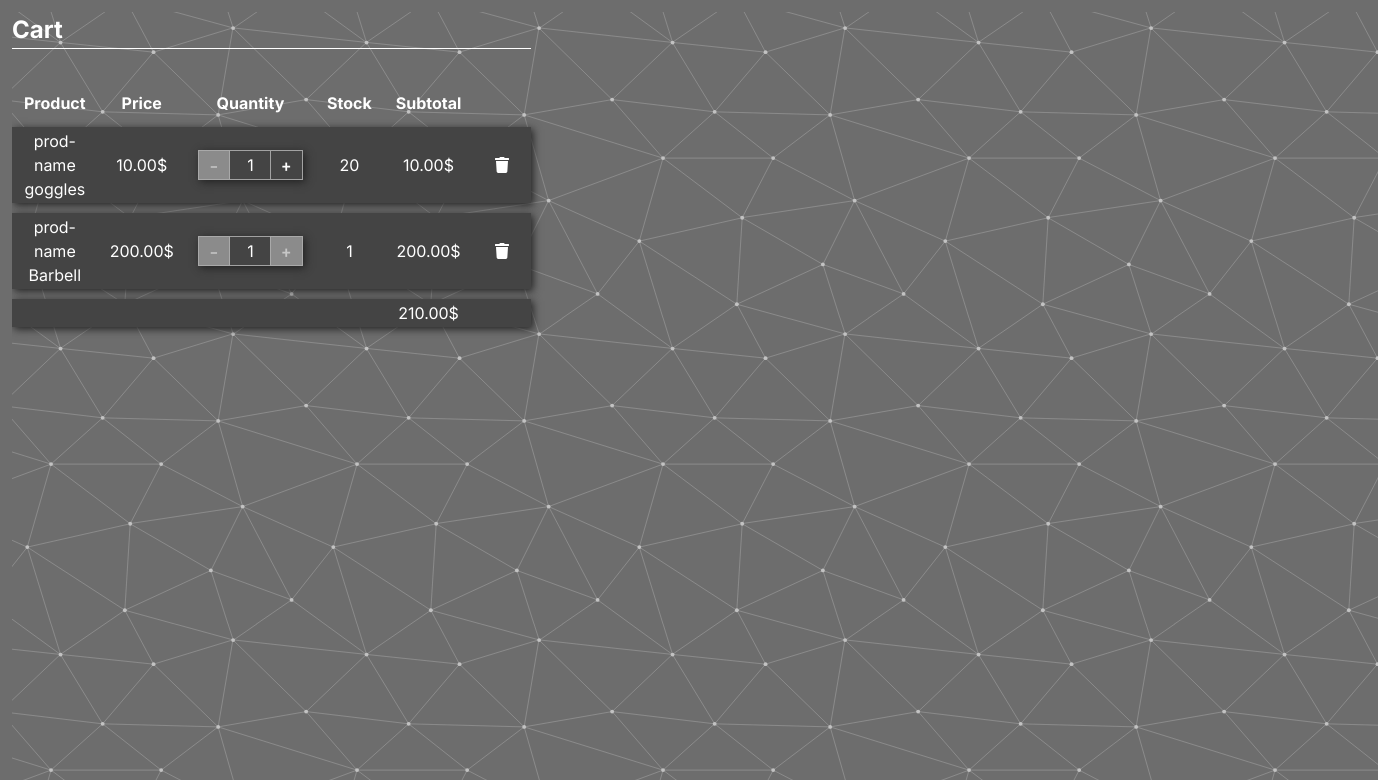
Test: cart › increments goggles quantity and updates total price
Click the button "+" below "prod-name goggles" at (287, 165), box [270,150,303,180]
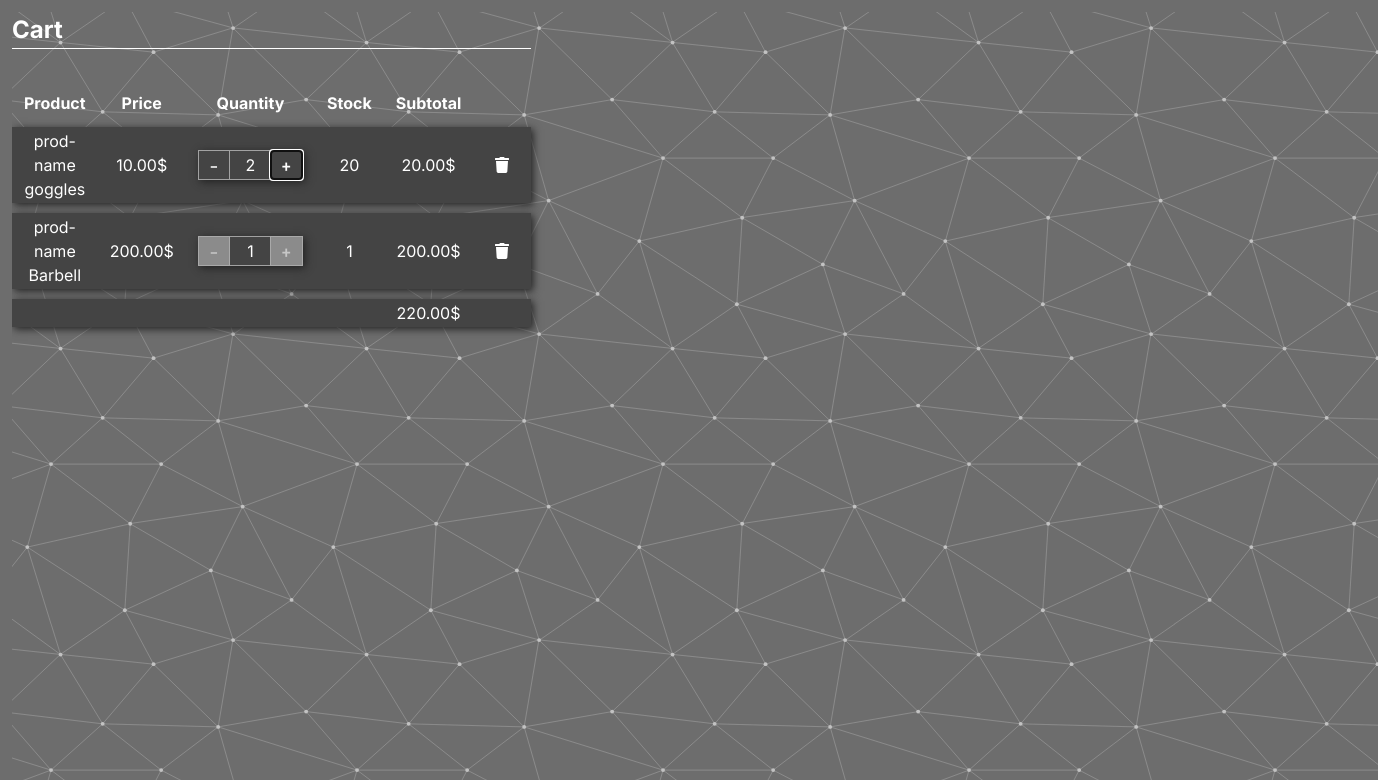
expect the text "20.00$" is shown: met, box [384,127,473,203]
expect the text "220.00$" is shown: met, box [384,299,473,327]
